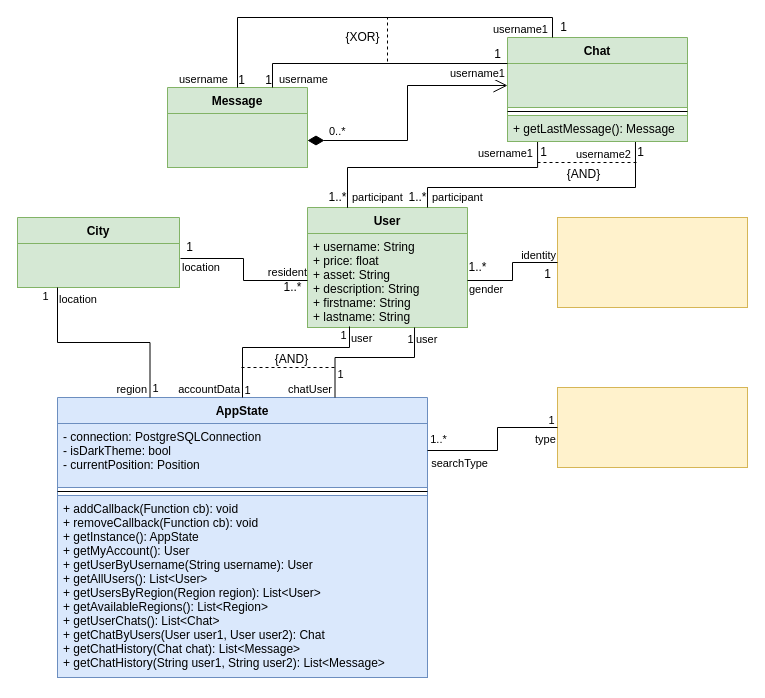
This 765x698 diagram has some shape labels left out. Here are the shapes that lost their labels. From the top down, the centre of each, then its label:
point 597,85: - chatId: int - isRead: bool
point 237,140: - msgId: int - timestamp: int - content: String
point 98,265: + zipCode: int + name: String
point 652,262: <<Enumeration>> Gender Male Female Other
point 652,427: <<Enumeration>> SearchType REQUEST ASSIST
